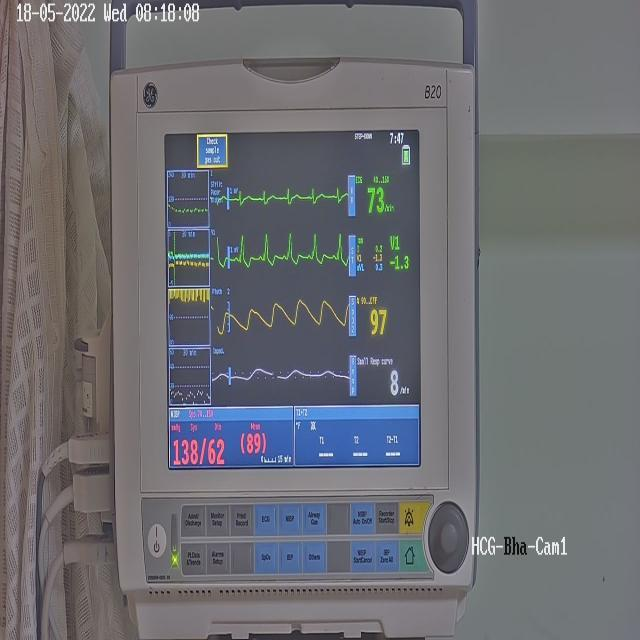Monitor: (109, 49, 479, 630)
